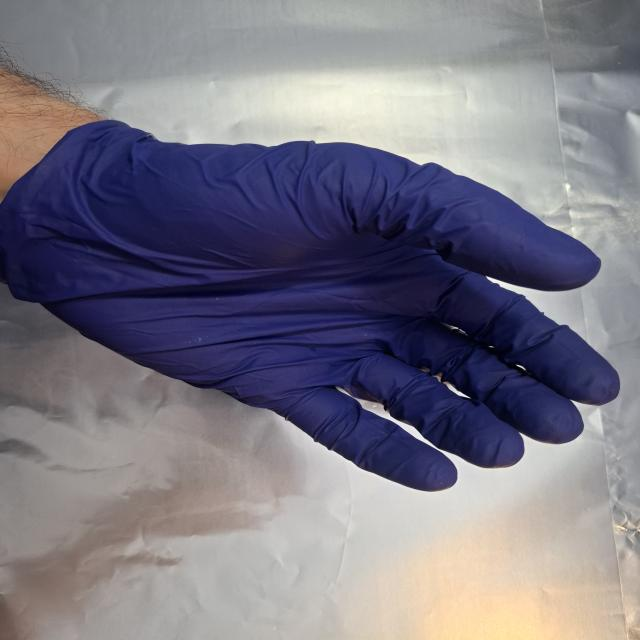glove_on: (0, 120, 627, 494)
